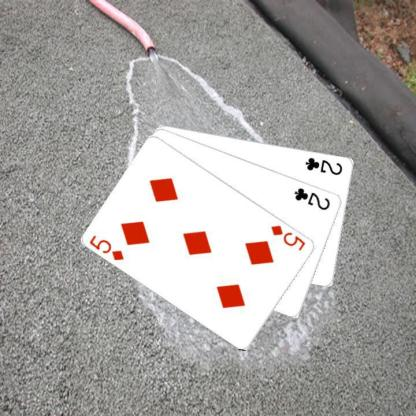2C: (291, 185, 332, 211), (303, 154, 344, 176)
5D: (87, 232, 126, 262), (269, 222, 307, 252)
